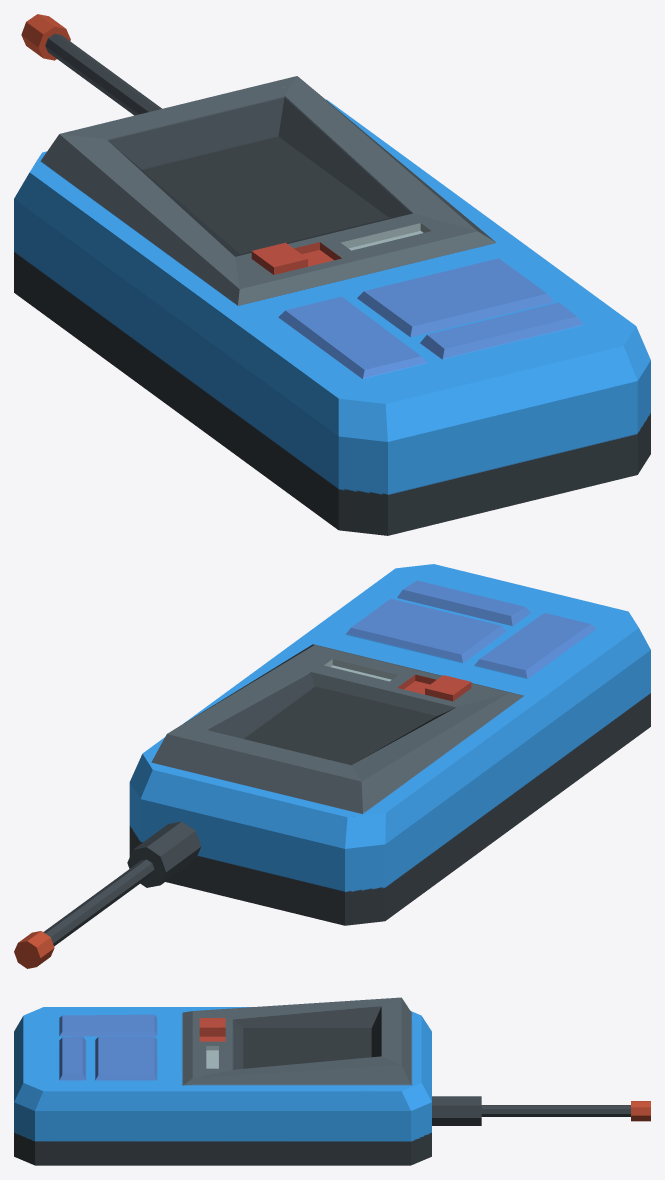
File: Walkie Talkie.fbx
3 views of the same model, one above another, from view 1: azimuth 30°, elevation 25°; view 2: azimuth 150°, elevation 25°; view 3: azimuth 270°, elevation 25° (orthographic). The views are drawn at different scales.
Parts seen in each view (by area): view 1: Walkie Talkie; view 2: Walkie Talkie; view 3: Walkie Talkie.
Boxes of the visible parts, bbox=[...] form: Walkie Talkie: bbox=[14, 14, 650, 535]; Walkie Talkie: bbox=[14, 564, 650, 968]; Walkie Talkie: bbox=[14, 997, 650, 1165].
Size of the model in its own units: 21 by 10 by 64.
